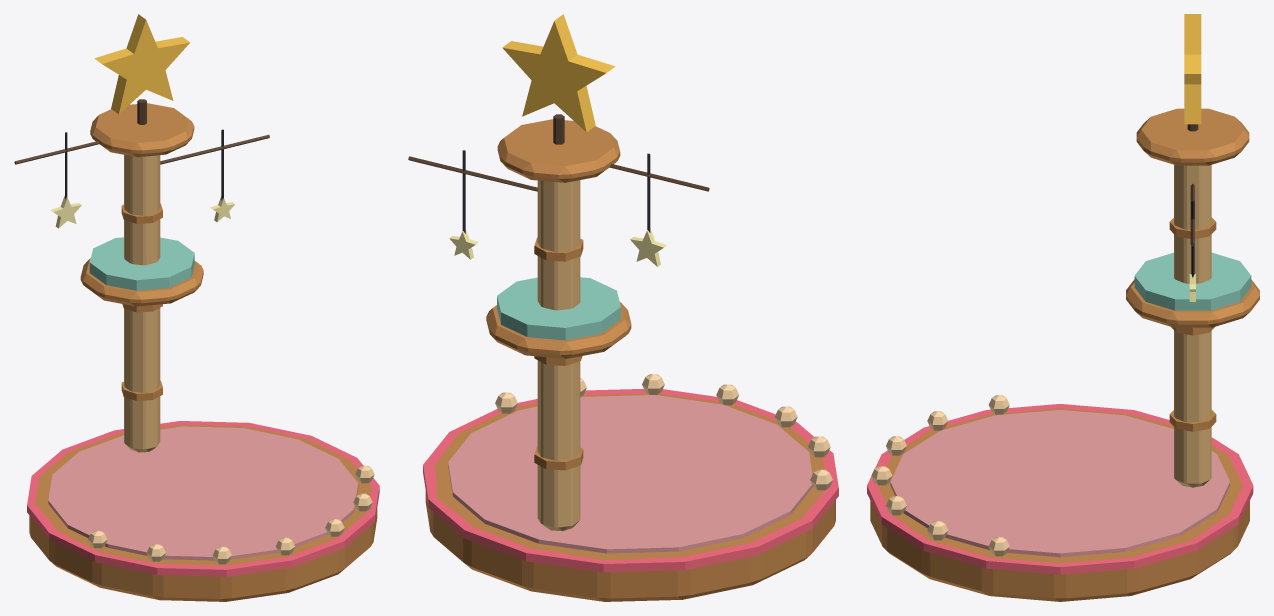
File: CatCafe_Furniture_StageCatTree.glb
The picture shows the model from 3 angles, left to right: view 1: azimuth 30°, elevation 25°; view 2: azimuth 150°, elevation 25°; view 3: azimuth 270°, elevation 25°; orthographic projection. The views are drawn at different scales.
Visible parts, largest first — view 1: CatCafe_Furniture_StageCatTree_Stage, CatCafe_Furniture_StageCatTree_Bulbs; view 2: CatCafe_Furniture_StageCatTree_Stage, CatCafe_Furniture_StageCatTree_Bulbs; view 3: CatCafe_Furniture_StageCatTree_Stage, CatCafe_Furniture_StageCatTree_Bulbs.
Boxes of the visible parts, x1,y1,x2,y2 form: CatCafe_Furniture_StageCatTree_Stage: (14,14,379,601); CatCafe_Furniture_StageCatTree_Bulbs: (88,465,374,564); CatCafe_Furniture_StageCatTree_Stage: (408,14,838,601); CatCafe_Furniture_StageCatTree_Bulbs: (495,374,832,490); CatCafe_Furniture_StageCatTree_Stage: (867,14,1259,601); CatCafe_Furniture_StageCatTree_Bulbs: (871,395,1009,556).
Size of the model in its own units: 3.64 by 5.3 by 3.7.
1 material, 1 textured.
